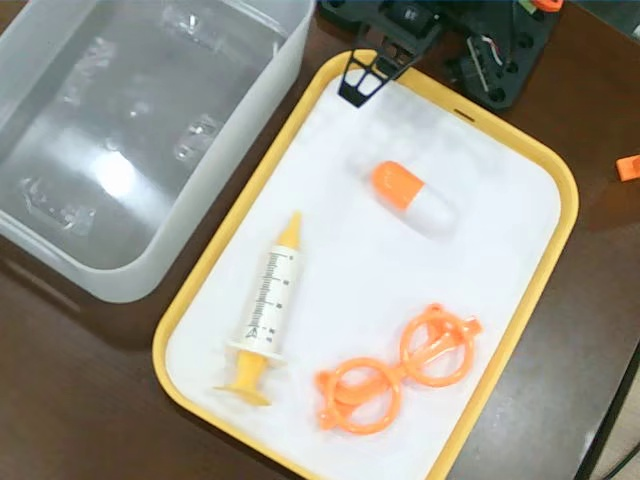pill: (366, 158, 466, 234)
syringe: (209, 210, 303, 406)
